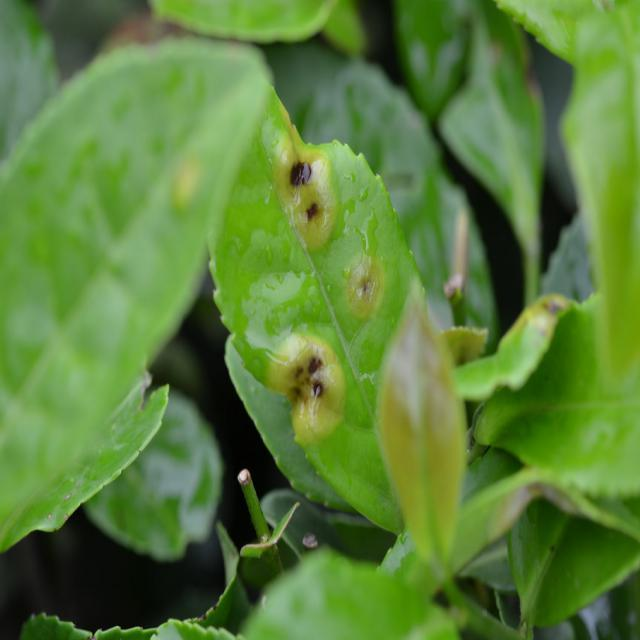Tea cake: (266, 329, 364, 431), (273, 130, 344, 262), (335, 234, 388, 314)
